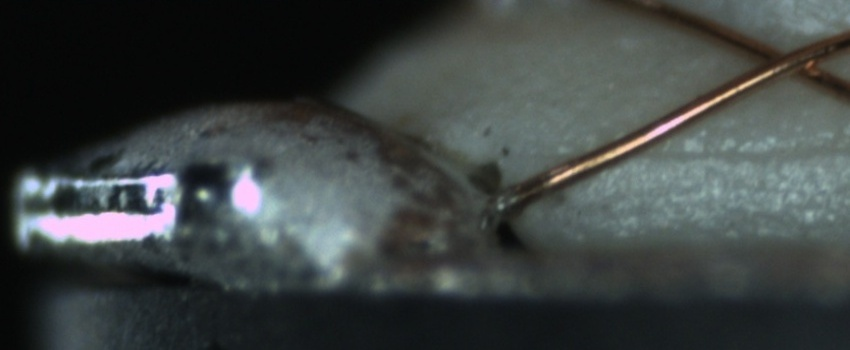CL: (730, 30, 833, 90)
DL: (605, 121, 849, 185)
